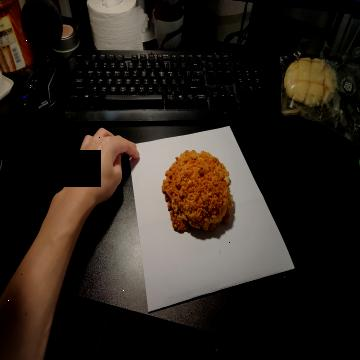soboru_bread: (161, 150, 232, 234)
